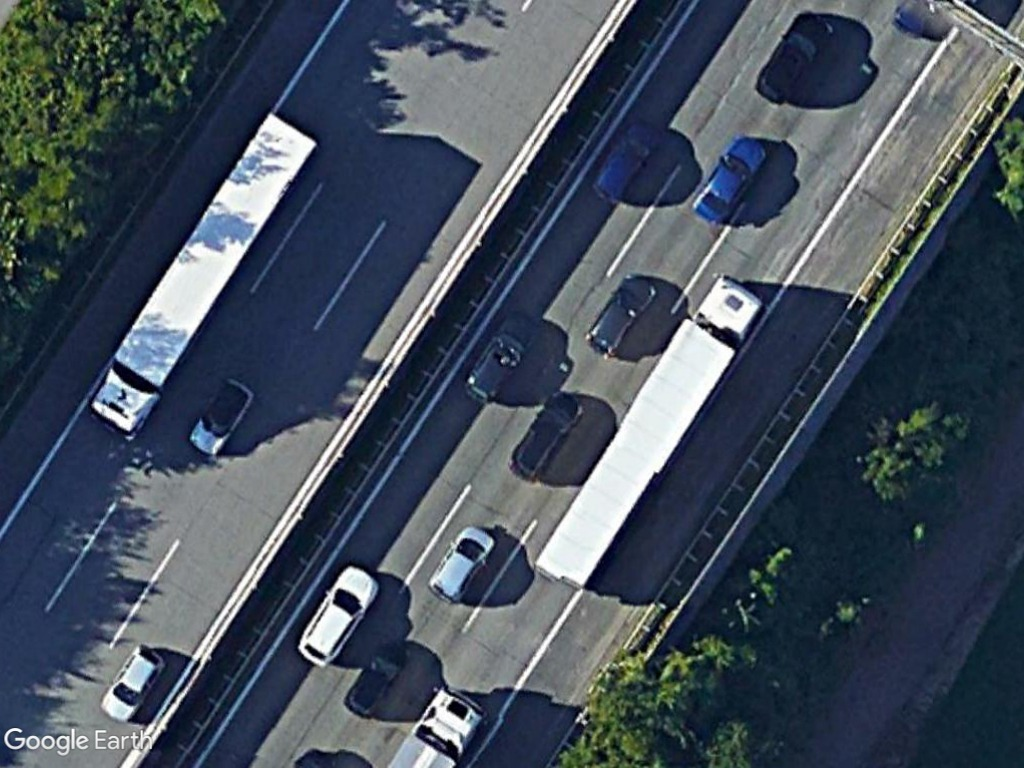car: (289, 556, 378, 673), (687, 124, 776, 230), (582, 261, 666, 366), (749, 8, 835, 106), (451, 306, 539, 401), (96, 636, 170, 727), (426, 522, 501, 607), (186, 375, 258, 461)
longvehicle: (525, 270, 759, 604), (89, 103, 321, 438)
